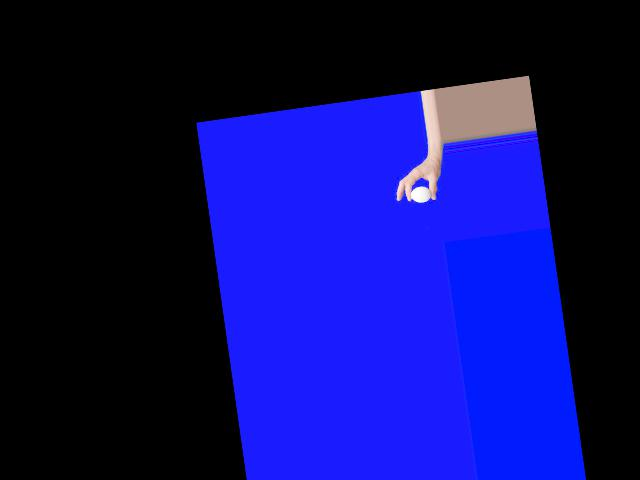egg: (409, 185, 432, 204)
